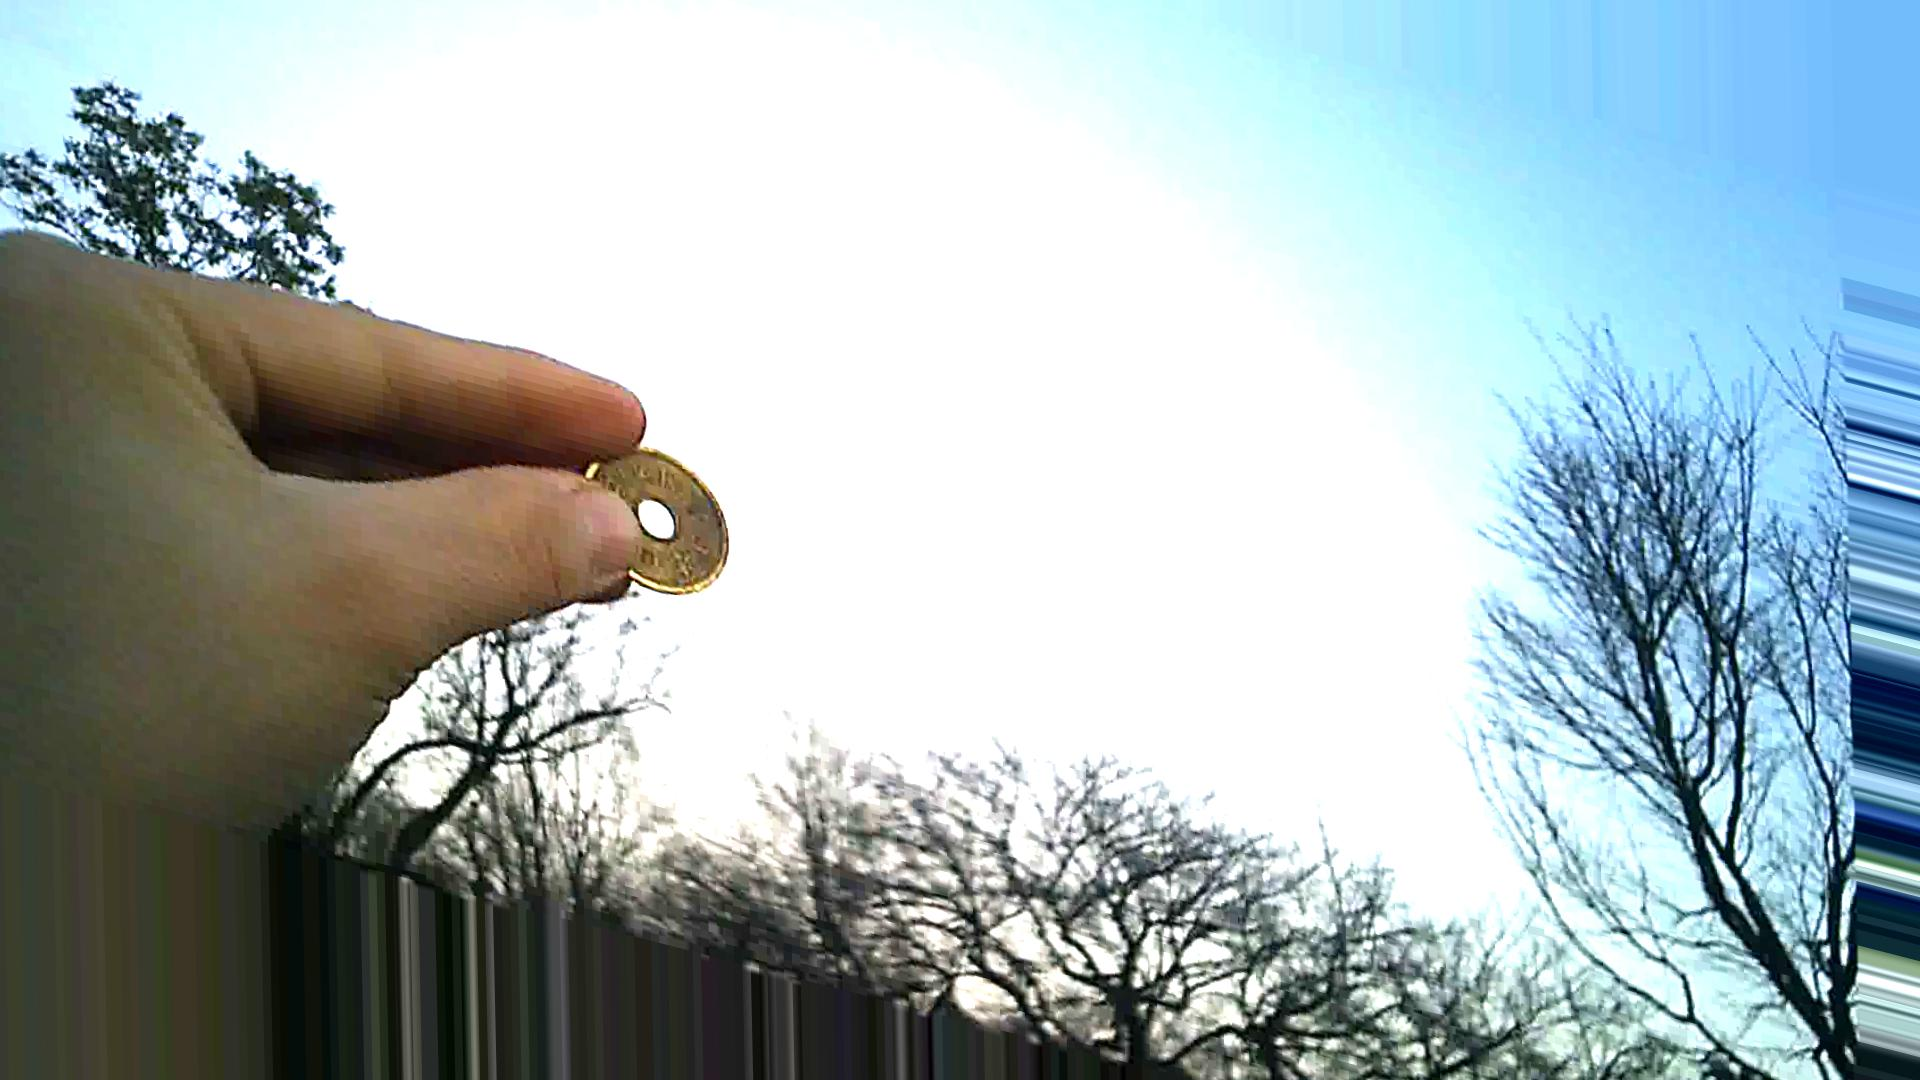5 Yen: (556, 426, 737, 596)
